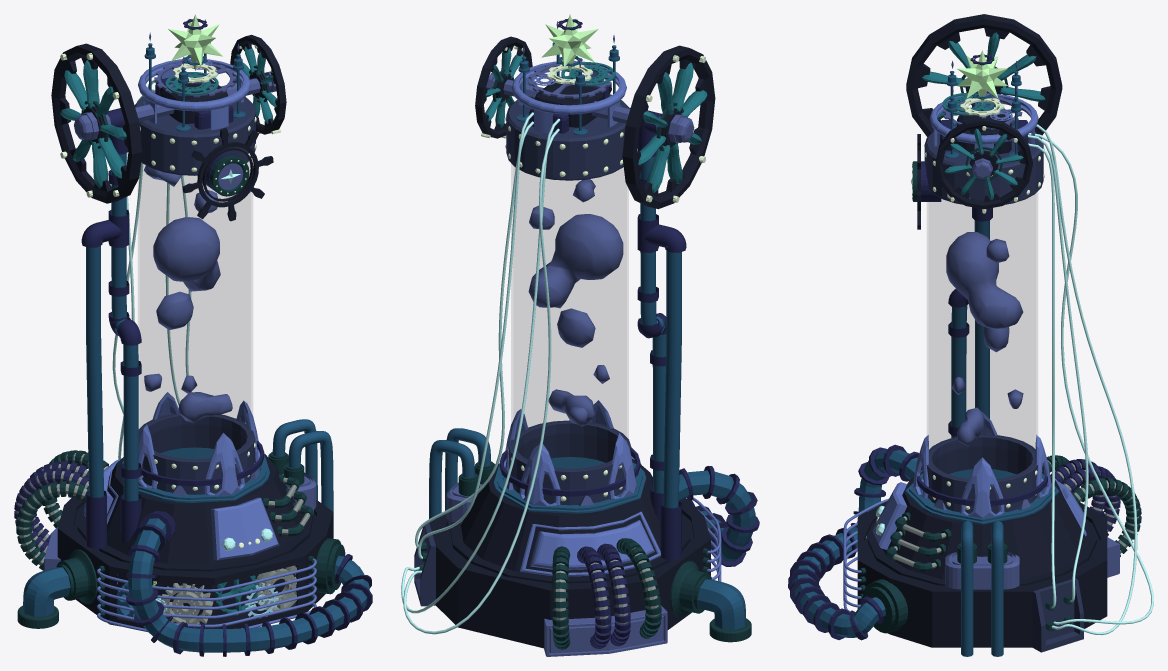
The model's file is st3_generator B.fbx.
The picture shows the model from 3 angles, left to right: view 1: azimuth 30°, elevation 25°; view 2: azimuth 150°, elevation 25°; view 3: azimuth 270°, elevation 25°; orthographic projection. The views are drawn at different scales.
Parts seen in each view (by area): view 1: 1_generator_main_body, 3_generator_bottom_main, 3_generator_bottom_pipe5_1, 1_generator_main_body_Mball, 3_generator_bottom_tube5_1, 1_generator_main_body_etc5, 2_generator_top_wheel2_1, 3_generator_bottom_tube5_2, 1_generator_main_body_etc1, 3_generator_bottom_pipe5_3, 3_generator_bottom_pipe3_1, 2_generator_top_wheel2_2 (+32 smaller); view 2: 3_generator_bottom_main, 1_generator_main_body, 1_generator_main_body_Mball, 3_generator_bottom_pipe5_1, 3_generator_bottom_etc6, 1_generator_main_body_etc1, 1_generator_main_body_etc5, 2_generator_top_wheel2_1, 3_generator_bottom_etc3, 3_generator_bottom_pipe5_3, 2_generator_top_wheel2_2, 1_generator_main_body_holder1 (+27 smaller); view 3: 1_generator_main_body, 3_generator_bottom_main, 3_generator_bottom_etc6, 1_generator_main_body_Mball, 1_generator_main_body_etc5, 2_generator_top_wheel2_1, 3_generator_bottom_tube5_2, 3_generator_bottom_tube5_1, 3_generator_bottom_pipe2_3, 1_generator_main_body_etc1, 3_generator_bottom_pipe5_1, 1_generator_main_body_holder1 (+19 smaller).
Part boxes in pixels (x1=…): 1_generator_main_body: x1=139, y1=162, x2=250, y2=458; 3_generator_bottom_main: x1=57, y1=454, x2=333, y2=628; 3_generator_bottom_pipe5_1: x1=86, y1=153, x2=138, y2=501; 1_generator_main_body_Mball: x1=144, y1=165, x2=232, y2=422; 3_generator_bottom_tube5_1: x1=128, y1=518, x2=369, y2=652; 1_generator_main_body_etc5: x1=138, y1=413, x2=255, y2=494; 2_generator_top_wheel2_1: x1=51, y1=43, x2=142, y2=203; 3_generator_bottom_tube5_2: x1=123, y1=511, x2=372, y2=656; 1_generator_main_body_etc1: x1=134, y1=92, x2=255, y2=175; 3_generator_bottom_pipe5_3: x1=86, y1=108, x2=141, y2=550; 3_generator_bottom_pipe3_1: x1=97, y1=558, x2=316, y2=631; 2_generator_top_wheel2_2: x1=60, y1=60, x2=126, y2=188; 3_generator_bottom_main: x1=429, y1=459, x2=710, y2=648; 1_generator_main_body: x1=513, y1=166, x2=626, y2=468; 1_generator_main_body_Mball: x1=528, y1=179, x2=623, y2=426; 3_generator_bottom_pipe5_1: x1=640, y1=156, x2=681, y2=508; 3_generator_bottom_etc6: x1=401, y1=112, x2=560, y2=634; 1_generator_main_body_etc1: x1=506, y1=94, x2=629, y2=180; 1_generator_main_body_etc5: x1=509, y1=420, x2=631, y2=505; 2_generator_top_wheel2_1: x1=622, y1=45, x2=715, y2=209; 3_generator_bottom_etc3: x1=520, y1=511, x2=660, y2=576; 3_generator_bottom_pipe5_3: x1=637, y1=110, x2=681, y2=562; 2_generator_top_wheel2_2: x1=638, y1=62, x2=707, y2=193; 1_generator_main_body_holder1: x1=503, y1=400, x2=636, y2=506; 1_generator_main_body: x1=928, y1=193, x2=1036, y2=478; 3_generator_bottom_main: x1=857, y1=471, x2=1107, y2=647; 3_generator_bottom_etc6: x1=1028, y1=124, x2=1153, y2=635; 1_generator_main_body_Mball: x1=946, y1=232, x2=1023, y2=446; 1_generator_main_body_etc5: x1=926, y1=434, x2=1038, y2=513; 2_generator_top_wheel2_1: x1=906, y1=14, x2=1062, y2=136; 3_generator_bottom_tube5_2: x1=788, y1=444, x2=919, y2=640; 3_generator_bottom_tube5_1: x1=792, y1=450, x2=922, y2=637; 3_generator_bottom_pipe2_3: x1=961, y1=520, x2=1003, y2=656; 1_generator_main_body_etc1: x1=924, y1=122, x2=1043, y2=204; 3_generator_bottom_pipe5_1: x1=951, y1=220, x2=989, y2=437; 1_generator_main_body_holder1: x1=912, y1=412, x2=1051, y2=518.
Bounding box in the file's own units: 718 × 1282 × 771.
